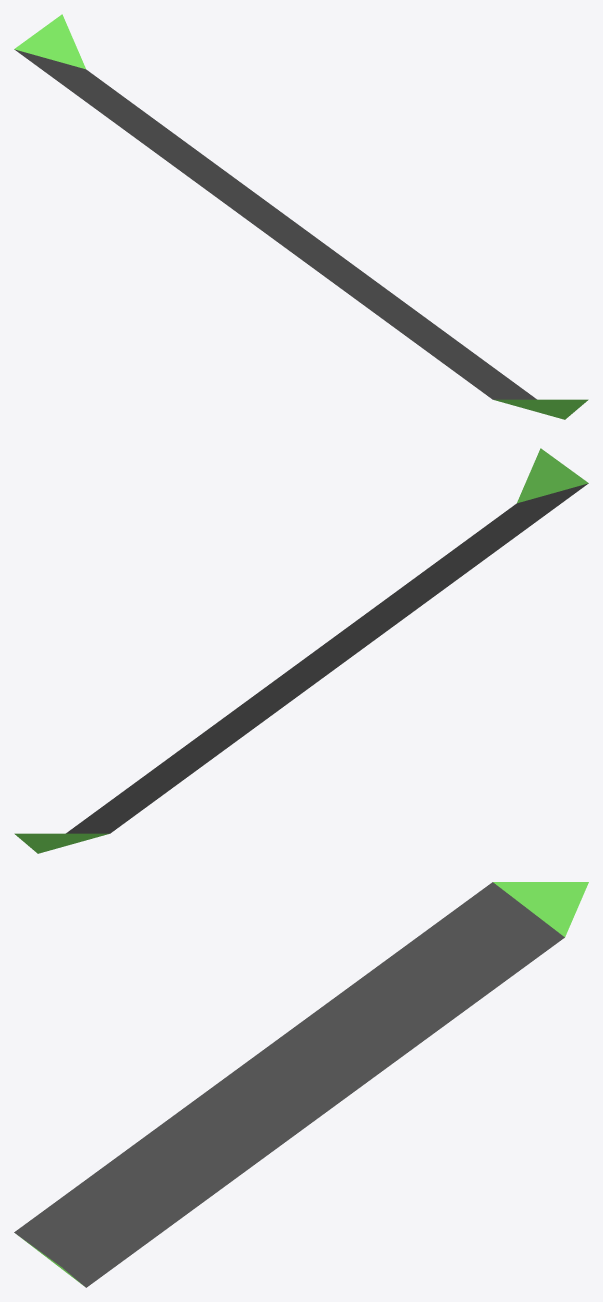
File: InclineMiddleRoad.glb
3 views of the same model, one above another, from view 1: azimuth 30°, elevation 25°; view 2: azimuth 150°, elevation 25°; view 3: azimuth 330°, elevation 25° (orthographic).
Visible parts, largest first — view 1: InclineMiddleRoad; view 2: InclineMiddleRoad; view 3: InclineMiddleRoad.
Boxes of the visible parts, bbox=[...] form: InclineMiddleRoad: bbox=[14, 14, 588, 419]; InclineMiddleRoad: bbox=[14, 448, 588, 853]; InclineMiddleRoad: bbox=[14, 882, 588, 1287].
Bounding box in the file's own units: 0.0436 × 0.0218 × 0.55.
